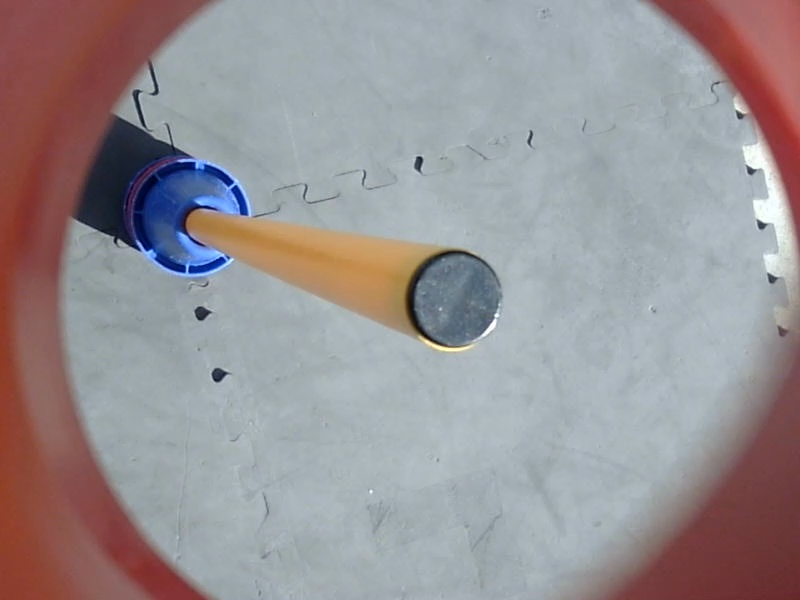tip: (398, 243, 510, 359)
